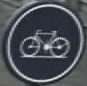bike lane: (6, 4, 81, 78)
